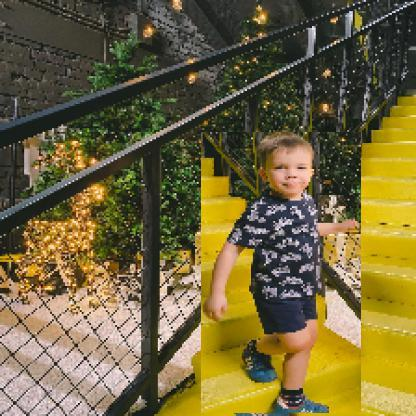child: (202, 133, 363, 415)
